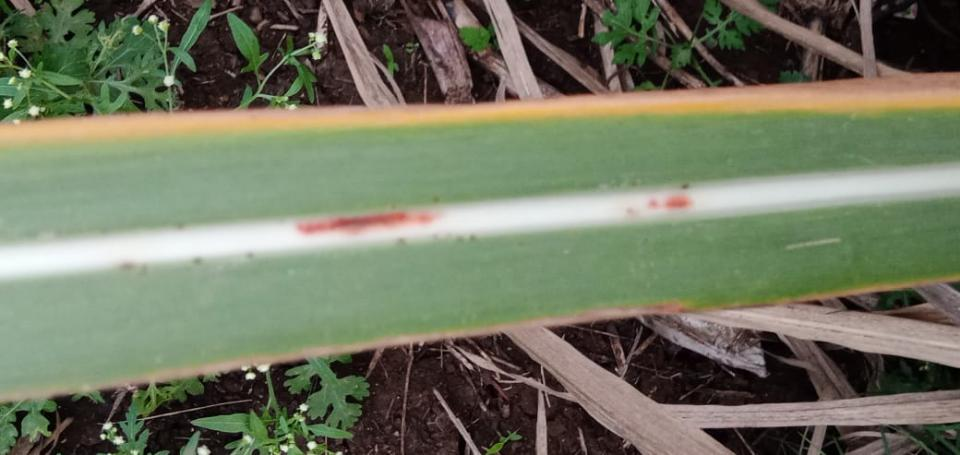RedRot: (647, 195, 695, 209), (625, 206, 642, 216)
Rust: (431, 231, 478, 245), (116, 261, 148, 278), (391, 237, 409, 246), (191, 255, 204, 267), (244, 251, 255, 260), (431, 195, 442, 204), (176, 221, 185, 231), (679, 183, 691, 190), (628, 182, 638, 188)
Yellow: (0, 277, 959, 403), (0, 72, 959, 147), (293, 209, 444, 237)
